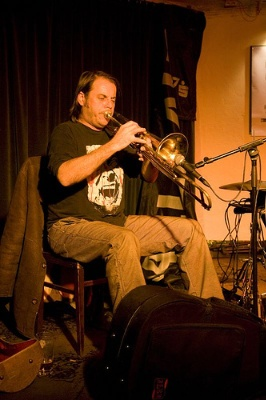person: (45, 70, 227, 317)
